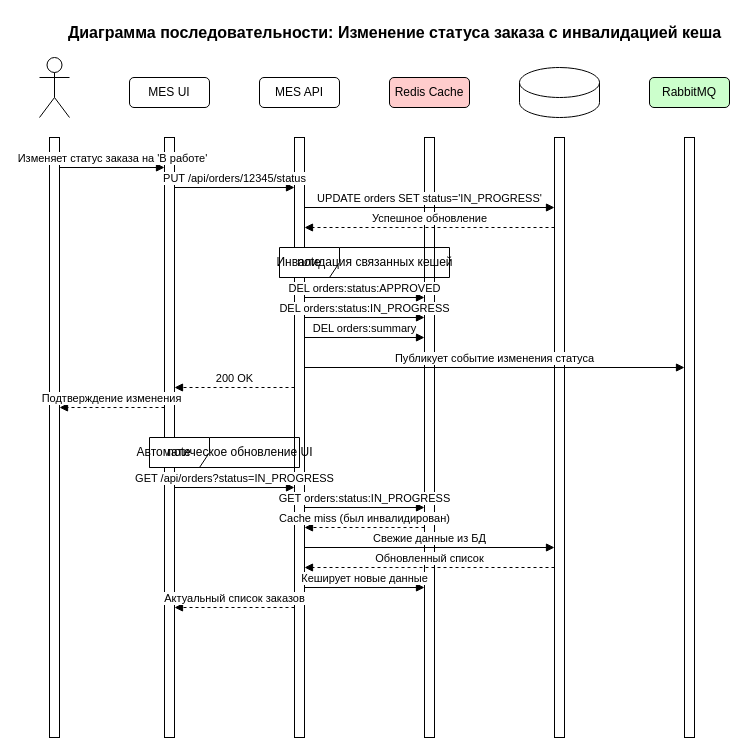
The diagram is 747 pixels wide and 755 high, and some of its shapes have lost their labels. The shapes that lost their labels are listed below. From the top down, each one's centre as x and y in pixels, then its label:
point 54,87: Оператор
point 559,92: MES Database
